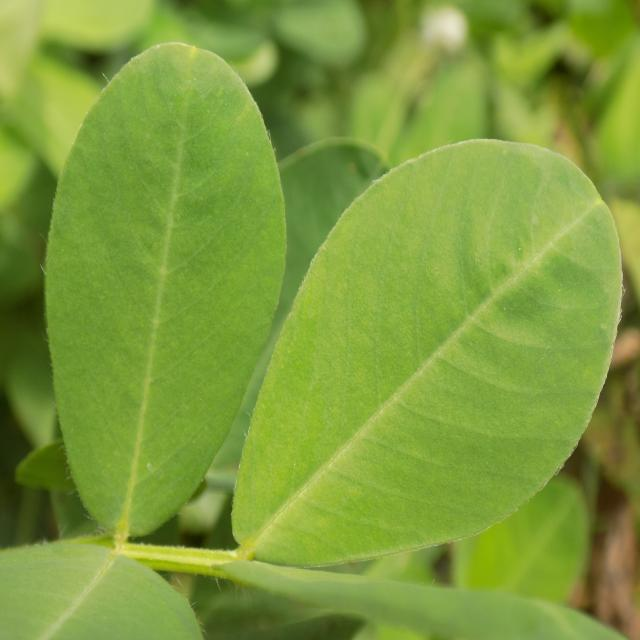Ground nut_healthy: (232, 141, 620, 563), (50, 42, 284, 539)
